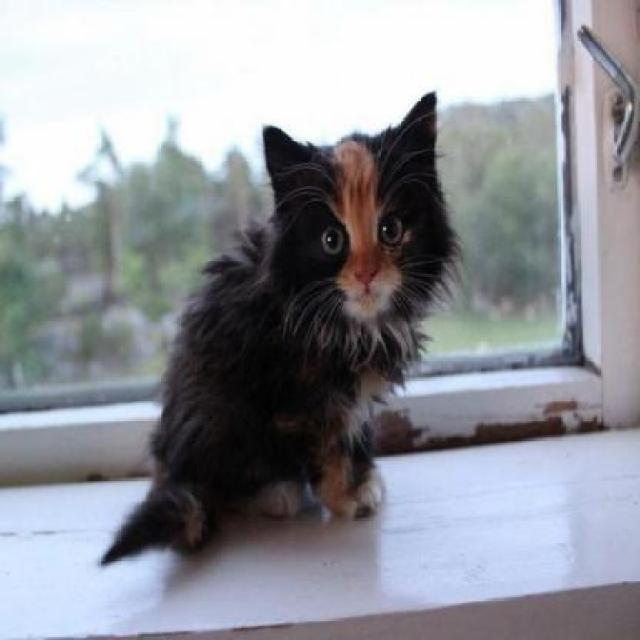cat: (82, 93, 480, 549)
